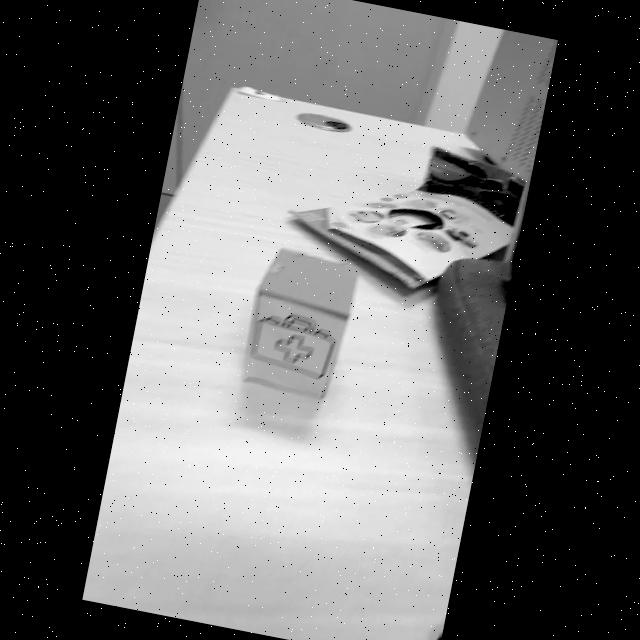Medkit: (251, 315, 336, 380)
